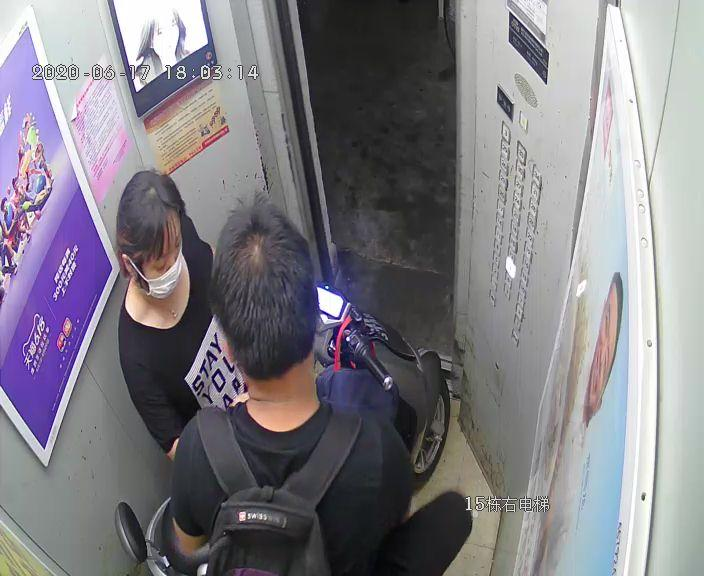Electric-bicycle: (117, 282, 449, 568)
